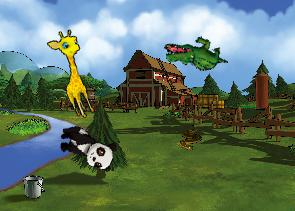crocodile: (162, 30, 228, 79)
giraffe: (44, 26, 106, 121)
panda: (53, 121, 120, 174)
